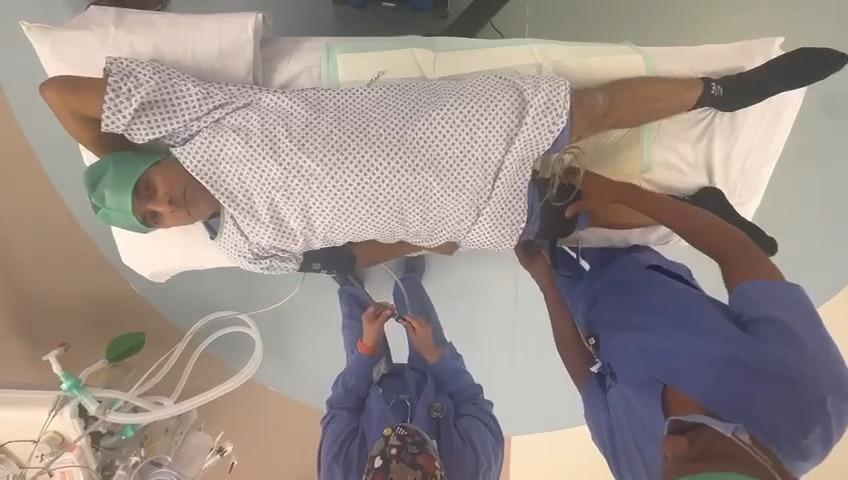patient: (41, 50, 848, 272)
tourniquet: (535, 177, 580, 241), (298, 243, 356, 274)
